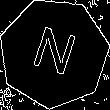N_S: (27, 23, 81, 83)
